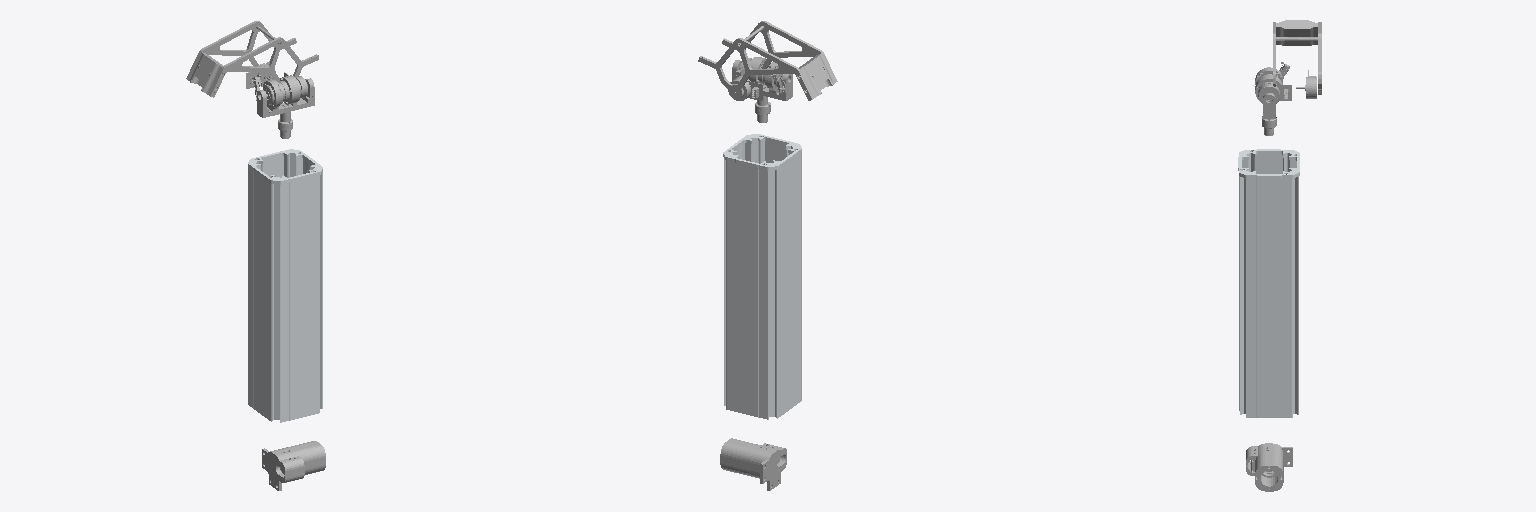
robot.urdf — Moe_01:
<robot
  name="Moe_01">
  <link
    name="base_link">
    <inertial>
      <origin
        xyz="0.00053406 0.02703 -0.0077426"
        rpy="0 0 0" />
      <mass
        value="54.769" />
      <inertia
        ixx="2.0289"
        ixy="0.00099883"
        ixz="-0.0050299"
        iyy="2.71"
        iyz="0.039704"
        izz="2.7986" />
    </inertial>
    <visual>
      <origin
        xyz="0 0 0"
        rpy="0 0 0" />
      <geometry>
        <mesh
          filename="package://Moe_01/meshes/base_link.STL" />
      </geometry>
      <material
        name="">
        <color
          rgba="0.75294 0.75294 0.75294 1" />
      </material>
    </visual>
    <collision>
      <origin
        xyz="0 0 0"
        rpy="0 0 0" />
      <geometry>
        <mesh
          filename="package://Moe_01/meshes/base_link.STL" />
      </geometry>
    </collision>
  </link>
  <link
    name="pillar_link">
    <inertial>
      <origin
        xyz="-1.0024E-06 0.26564 -0.00087383"
        rpy="0 0 0" />
      <mass
        value="3.9099" />
      <inertia
        ixx="0.098403"
        ixy="-3.684E-09"
        ixz="3.5945E-08"
        iyy="0.014636"
        iyz="-2.1821E-05"
        izz="0.098592" />
    </inertial>
    <visual>
      <origin
        xyz="0 0 0"
        rpy="0 0 0" />
      <geometry>
        <mesh
          filename="package://Moe_01/meshes/pillar_link.STL" />
      </geometry>
      <material
        name="">
        <color
          rgba="0.89804 0.91765 0.92941 1" />
      </material>
    </visual>
    <collision>
      <origin
        xyz="0 0 0"
        rpy="0 0 0" />
      <geometry>
        <mesh
          filename="package://Moe_01/meshes/pillar_link.STL" />
      </geometry>
    </collision>
  </link>
  <joint
    name="pillar_joint"
    type="prismatic">
    <origin
      xyz="0 0 0.12324"
      rpy="1.5708 6.123E-17 1.5708" />
    <parent
      link="base_link" />
    <child
      link="pillar_link" />
    <axis
      xyz="0 1 0" />
    <limit effort="30" velocity="1.0" lower="0.0" upper="0.4"/>
  </joint>
  <link
    name="torso_link">
    <inertial>
      <origin
        xyz="0.014758 0.47107 0.0089251"
        rpy="0 0 0" />
      <mass
        value="9.0651" />
      <inertia
        ixx="0.27969"
        ixy="0.0139"
        ixz="-0.0075445"
        iyy="0.079581"
        iyz="0.0055367"
        izz="0.26758" />
    </inertial>
    <visual>
      <origin
        xyz="0 0 0"
        rpy="0 0 0" />
      <geometry>
        <mesh
          filename="package://Moe_01/meshes/torso_link.STL" />
      </geometry>
      <material
        name="">
        <color
          rgba="0.89804 0.91765 0.92941 1" />
      </material>
    </visual>
    <collision>
      <origin
        xyz="0 0 0"
        rpy="0 0 0" />
      <geometry>
        <mesh
          filename="package://Moe_01/meshes/torso_link.STL" />
      </geometry>
    </collision>
  </link>
  <joint
    name="torso_joint"
    type="prismatic">
    <origin
      xyz="0 -0.12324 0"
      rpy="0 0 0" />
    <parent
      link="pillar_link" />
    <child
      link="torso_link" />
    <axis
      xyz="0 1 0" />
    <limit
      lower="-0.25"
      upper="0"
      effort="0"
      velocity="0" />
  </joint>
  <link
    name="pan_link">
    <inertial>
      <origin
        xyz="-0.0005366 -0.080207 -0.0031388"
        rpy="0 0 0" />
      <mass
        value="0.38459" />
      <inertia
        ixx="0.00072629"
        ixy="-5.9431E-06"
        ixz="-2.3582E-06"
        iyy="0.00044033"
        iyz="-2.6781E-05"
        izz="0.00037813" />
    </inertial>
    <visual>
      <origin
        xyz="0 0 0"
        rpy="0 0 0" />
      <geometry>
        <mesh
          filename="package://Moe_01/meshes/pan_link.STL" />
      </geometry>
      <material
        name="">
        <color
          rgba="0.75294 0.75294 0.75294 1" />
      </material>
    </visual>
    <collision>
      <origin
        xyz="0 0 0"
        rpy="0 0 0" />
      <geometry>
        <mesh
          filename="package://Moe_01/meshes/pan_link.STL" />
      </geometry>
    </collision>
  </link>
  <joint
    name="pan_joint"
    type="continuous">
    <origin
      xyz="0 0.70759 0"
      rpy="-1.2246E-16 -1.2246E-16 -3.1416" />
    <parent
      link="torso_link" />
    <child
      link="pan_link" />
    <axis
      xyz="0 -1 0" />
  </joint>
  <link
    name="tilt_link">
    <inertial>
      <origin
        xyz="0.00014297 0.077925 -0.015304"
        rpy="3.14159265 0 0" />
      <mass
        value="1.4043" />
      <inertia
        ixx="0.016171"
        ixy="-1.585E-07"
        ixz="2.1654E-05"
        iyy="0.019115"
        iyz="0.0013211"
        izz="0.015464" />
    </inertial>
    <visual>
      <origin
        xyz="0 0 0"
        rpy="3.14159265 0 0" />
      <geometry>
        <mesh
          filename="package://Moe_01/meshes/tilt_link.STL" />
      </geometry>
      <material
        name="">
        <color
          rgba="0.75294 0.75294 0.75294 1" />
      </material>
    </visual>
    <collision>
      <origin
        xyz="0 0 0"
        rpy="3.14159265 0 0" />
      <geometry>
        <mesh
          filename="package://Moe_01/meshes/tilt_link.STL" />
      </geometry>
    </collision>
  </link>
  <joint
    name="tilt_joint"
    type="revolute">
    <origin
      xyz="0 -0.10335 0"
      rpy="0 -1.5708 0" />
    <parent
      link="pan_link" />
    <child
      link="tilt_link" />
    <axis
      xyz="1 0 0" />
    <limit
      lower="-0.5236"
      upper="0.5236"
      effort="0"
      velocity="0" />
  </joint>
  <!--link
    name="kinova_link">
    <inertial>
      <origin
        xyz="-0.039533 -0.121 0.34963"
        rpy="0 0 0" />
      <mass
        value="1.2476" />
      <inertia
        ixx="0.073278"
        ixy="-0.00882"
        ixz="0.003465"
        iyy="0.047603"
        iyz="0.010781"
        izz="0.032466" />
    </inertial>
    <visual>
      <origin
        xyz="0 0 0"
        rpy="0 0 0" />
      <geometry>
        <mesh
          filename="package://Moe_01/meshes/kinova_link.STL" />
      </geometry>
      <material
        name="">
        <color
          rgba="0.10196 0.10196 0.10196 1" />
      </material>
    </visual>
    <collision>
      <origin
        xyz="0 0 0"
        rpy="0 0 0" />
      <geometry>
        <mesh
          filename="package://Moe_01/meshes/kinova_link.STL" />
      </geometry>
    </collision>
  </link>
  <joint
    name="kinova_joint"
    type="fixed">
    <origin
      xyz="0.18365 0.33377 0.14557"
      rpy="1.5708 1.5708 0" />
    <parent
      link="torso_link" />
    <child
      link="kinova_link" />
    <axis
      xyz="0 0 0" />
  </joint-->
</robot>

--- Facts derived from the render (not from the file) ---
3 views of the same robot in one strip: view 1: azimuth 30°, elevation 25°; view 2: azimuth 150°, elevation 25°; view 3: azimuth 270°, elevation 25° (orthographic).
Model Moe_01 with 5 links and 4 joints (1 revolute, 1 continuous, 2 prismatic), rooted at base_link, posed all joints at 0.
Visible links, largest first — view 1: pillar_link, tilt_link, pan_link, base_link; view 2: pillar_link, tilt_link, base_link, pan_link; view 3: pillar_link, tilt_link, base_link, pan_link.
Link boxes in pixels (box(x1,y1,x2,y2)): pillar_link: box(248, 149, 322, 422); tilt_link: box(186, 21, 318, 97); pan_link: box(252, 72, 314, 138); base_link: box(262, 441, 325, 490); pillar_link: box(723, 134, 801, 419); tilt_link: box(698, 21, 837, 100); base_link: box(720, 438, 786, 490); pan_link: box(732, 57, 792, 122); pillar_link: box(1238, 149, 1299, 417); tilt_link: box(1273, 20, 1321, 98); base_link: box(1246, 443, 1292, 491); pan_link: box(1255, 62, 1291, 135).
Size in the robot's own frame: 0.2531 by 0.163 by 0.9699 metres.
Meshes: 5 distinct files referenced, 4 mesh visuals loaded (4 binary STL); not drawn: 1 (reference not matched to a file when rendering).
